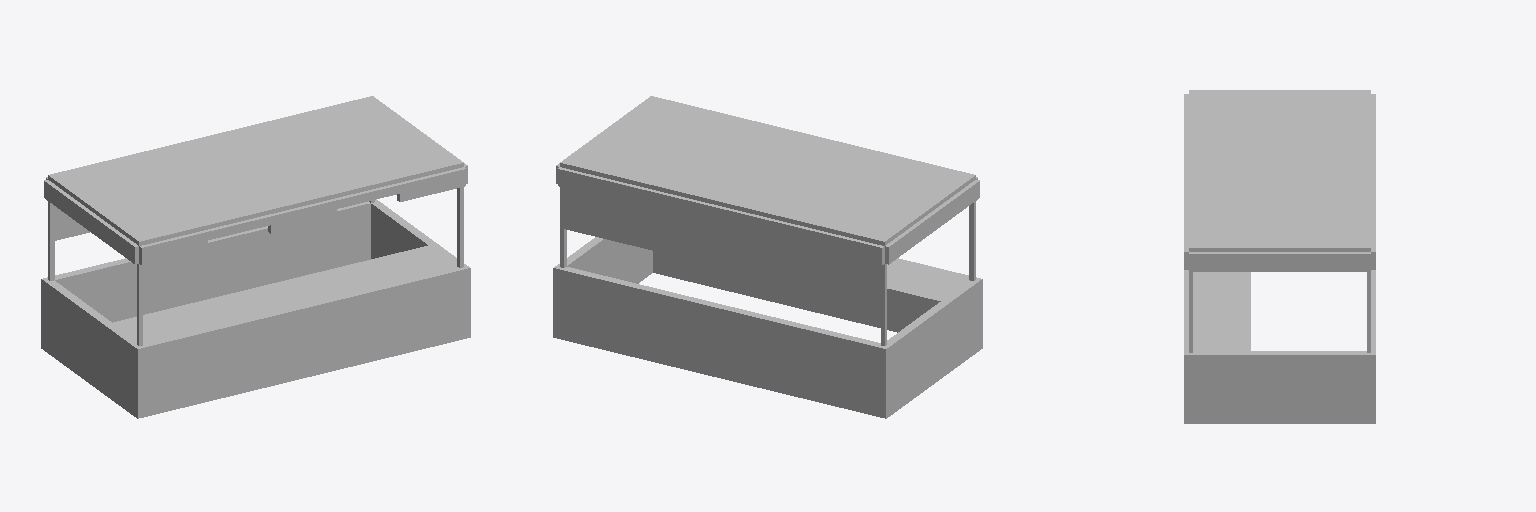
The model's file is shop stand.obj.
3 views of the same model, side by side, from view 1: azimuth 30°, elevation 25°; view 2: azimuth 150°, elevation 25°; view 3: azimuth 270°, elevation 25° (orthographic).
Visible parts, largest first — view 1: object 1; view 2: object 1; view 3: object 1.
Part boxes in pixels (x1,y1,x2,y2): object 1: (41, 96, 470, 418); object 1: (553, 96, 982, 418); object 1: (1184, 90, 1375, 423).
Bounding box in the file's own units: 8 × 4 × 4.